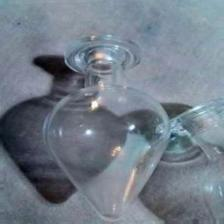Pear shaped flask: (37, 26, 173, 219)
